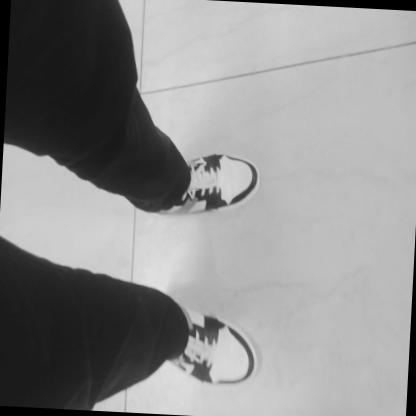ankle: (178, 199, 180, 204), (189, 337, 191, 341)
heel: (161, 212, 165, 214), (183, 311, 185, 313)
left_foot: (156, 152, 262, 222)
pinky: (227, 377, 231, 381), (236, 160, 239, 163)
right_foot: (167, 306, 263, 386)
toe: (247, 347, 251, 352), (248, 188, 251, 191)
